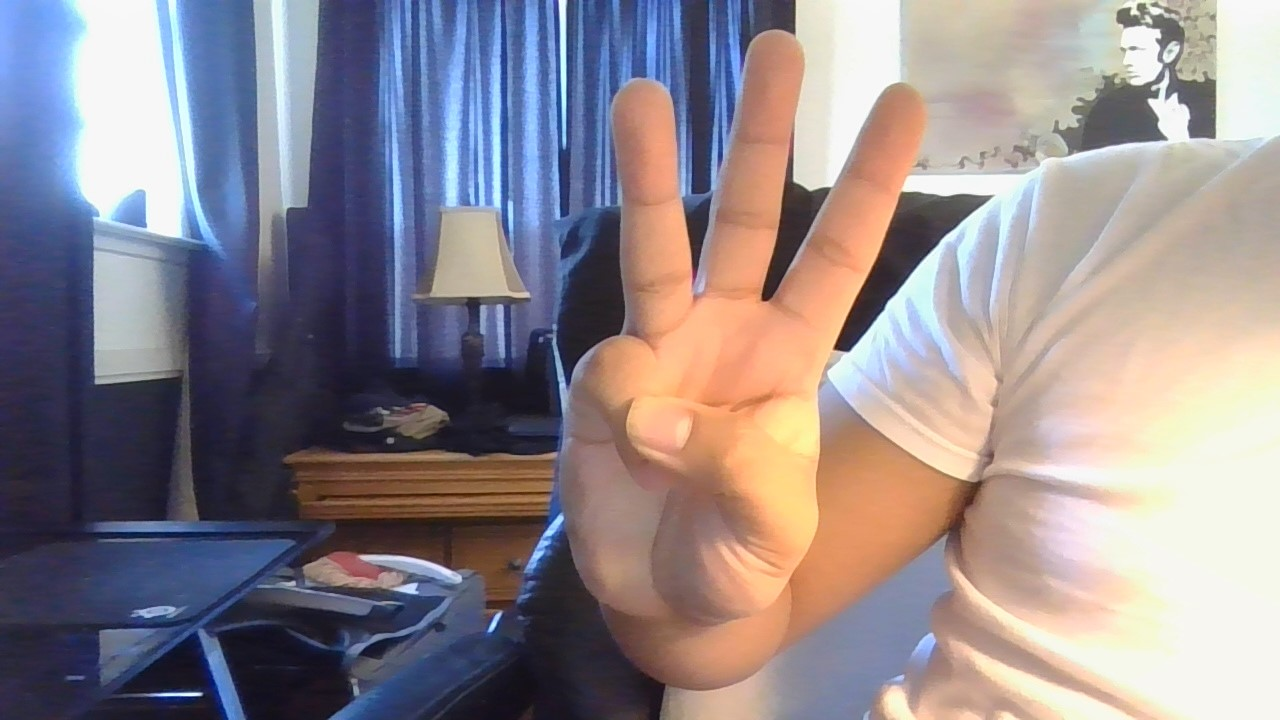w: (509, 17, 940, 641)
